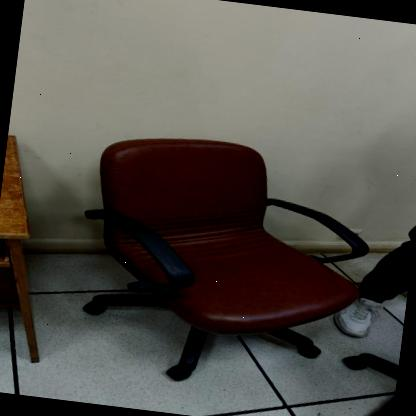chair: (58, 115, 386, 407)
